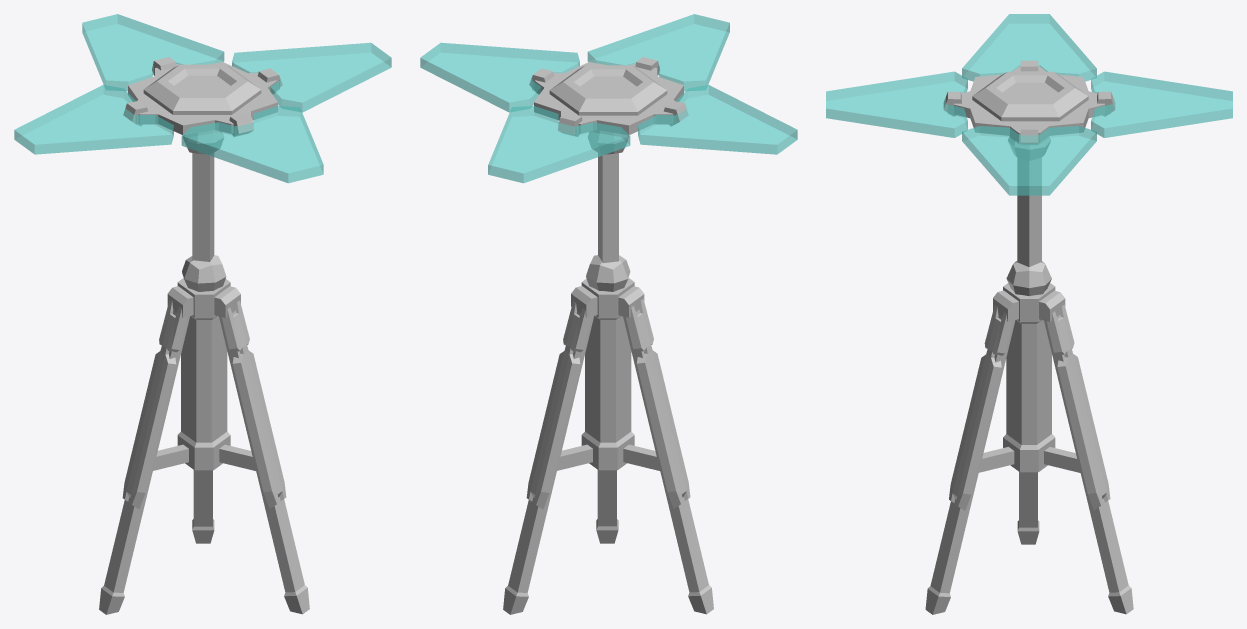
Rendered from SM_Prop_Satellite_02.fbx.
The picture shows the model from 3 angles, left to right: view 1: azimuth 30°, elevation 25°; view 2: azimuth 150°, elevation 25°; view 3: azimuth 270°, elevation 25°; orthographic projection.
Parts seen in each view (by area): view 1: SM_Prop_Satellite_02, SM_Prop_Satellite_02_Dish_01, SM_Prop_Satellite_02_Wing_07, SM_Prop_Satellite_02_Wing_04, SM_Prop_Satellite_02_Wing_05, SM_Prop_Satellite_02_Wing_06; view 2: SM_Prop_Satellite_02, SM_Prop_Satellite_02_Dish_01, SM_Prop_Satellite_02_Wing_07, SM_Prop_Satellite_02_Wing_06, SM_Prop_Satellite_02_Wing_05, SM_Prop_Satellite_02_Wing_04; view 3: SM_Prop_Satellite_02, SM_Prop_Satellite_02_Dish_01, SM_Prop_Satellite_02_Wing_04, SM_Prop_Satellite_02_Wing_06, SM_Prop_Satellite_02_Wing_05, SM_Prop_Satellite_02_Wing_07.
Boxes of the visible parts, x1,y1,x2,y2 form: SM_Prop_Satellite_02: (99, 130, 309, 614); SM_Prop_Satellite_02_Dish_01: (128, 62, 277, 134); SM_Prop_Satellite_02_Wing_07: (14, 84, 173, 154); SM_Prop_Satellite_02_Wing_04: (181, 106, 323, 183); SM_Prop_Satellite_02_Wing_05: (232, 42, 391, 112); SM_Prop_Satellite_02_Wing_06: (82, 14, 224, 91); SM_Prop_Satellite_02: (503, 130, 713, 614); SM_Prop_Satellite_02_Dish_01: (534, 62, 683, 134); SM_Prop_Satellite_02_Wing_07: (638, 85, 797, 154); SM_Prop_Satellite_02_Wing_06: (488, 106, 630, 183); SM_Prop_Satellite_02_Wing_05: (420, 42, 579, 112); SM_Prop_Satellite_02_Wing_04: (587, 14, 729, 91); SM_Prop_Satellite_02: (925, 136, 1133, 614); SM_Prop_Satellite_02_Dish_01: (954, 66, 1104, 142); SM_Prop_Satellite_02_Wing_04: (826, 71, 967, 137); SM_Prop_Satellite_02_Wing_06: (1091, 71, 1232, 137); SM_Prop_Satellite_02_Wing_05: (962, 124, 1096, 195); SM_Prop_Satellite_02_Wing_07: (962, 14, 1096, 81).
Bounding box in the file's own units: 99.35 × 135 × 99.35.
